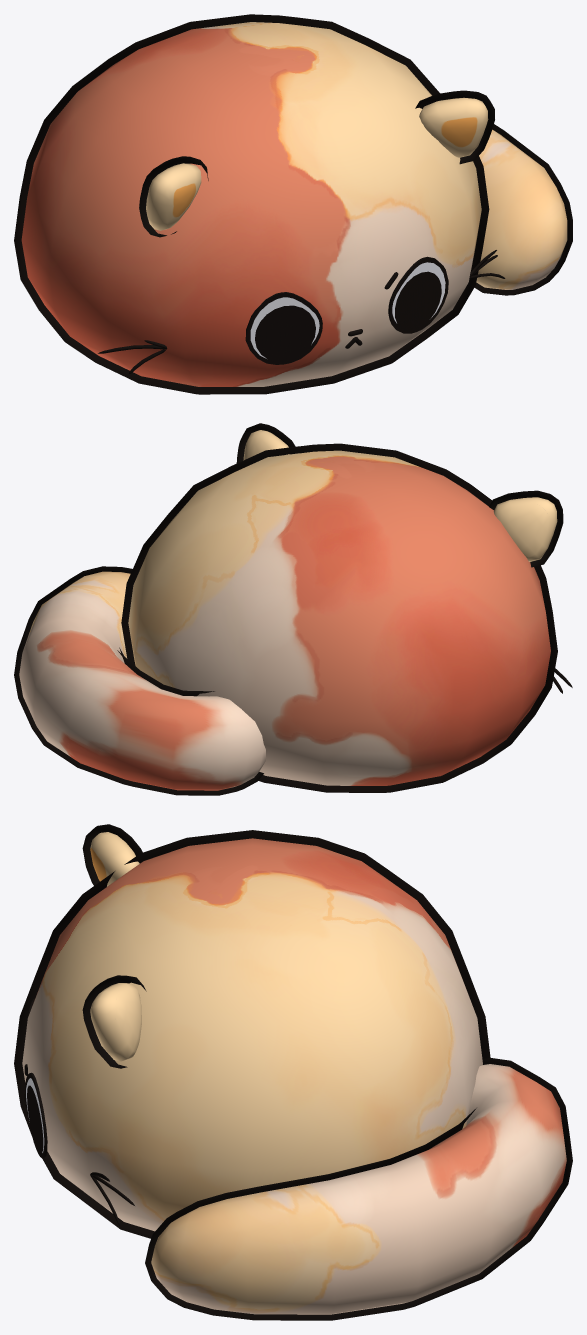
The model's file is cat4.glb.
3 renders of one model, top to bottom at view 1: azimuth 30°, elevation 25°; view 2: azimuth 150°, elevation 25°; view 3: azimuth 270°, elevation 25°, orthographic. The views are drawn at different scales.
Parts seen in each view (by area): view 1: Cat.004, Cat.005, Cube.019, Cube.017, ear_left.003, Cube.015; view 2: Cat.004, Cube.019, Cat.005, ear_left.003; view 3: Cat.004, Cube.019, Cat.005, ear_left.003, Cube.017.
Boxes of the visible parts, left/top/right/bottom form: Cat.004: left=21, top=22, right=481, bottom=386; Cat.005: left=14, top=14, right=572, bottom=394; Cube.019: left=476, top=129, right=567, bottom=289; Cube.017: left=245, top=256, right=448, bottom=364; ear_left.003: left=146, top=97, right=488, bottom=230; Cube.015: left=98, top=340, right=167, bottom=374; Cat.004: left=128, top=450, right=550, bottom=785; Cube.019: left=19, top=571, right=266, bottom=790; Cat.005: left=14, top=423, right=563, bottom=795; ear_left.003: left=243, top=430, right=557, bottom=561; Cat.004: left=22, top=838, right=482, bottom=1231; Cube.019: left=151, top=1064, right=566, bottom=1314; Cat.005: left=14, top=824, right=572, bottom=1320; ear_left.003: left=90, top=832, right=141, bottom=1061; Cube.017: left=25, top=998, right=47, bottom=1158.
Bounding box in the file's own units: 1.04 × 0.5856 × 0.9026.
1 material, 1 textured.
